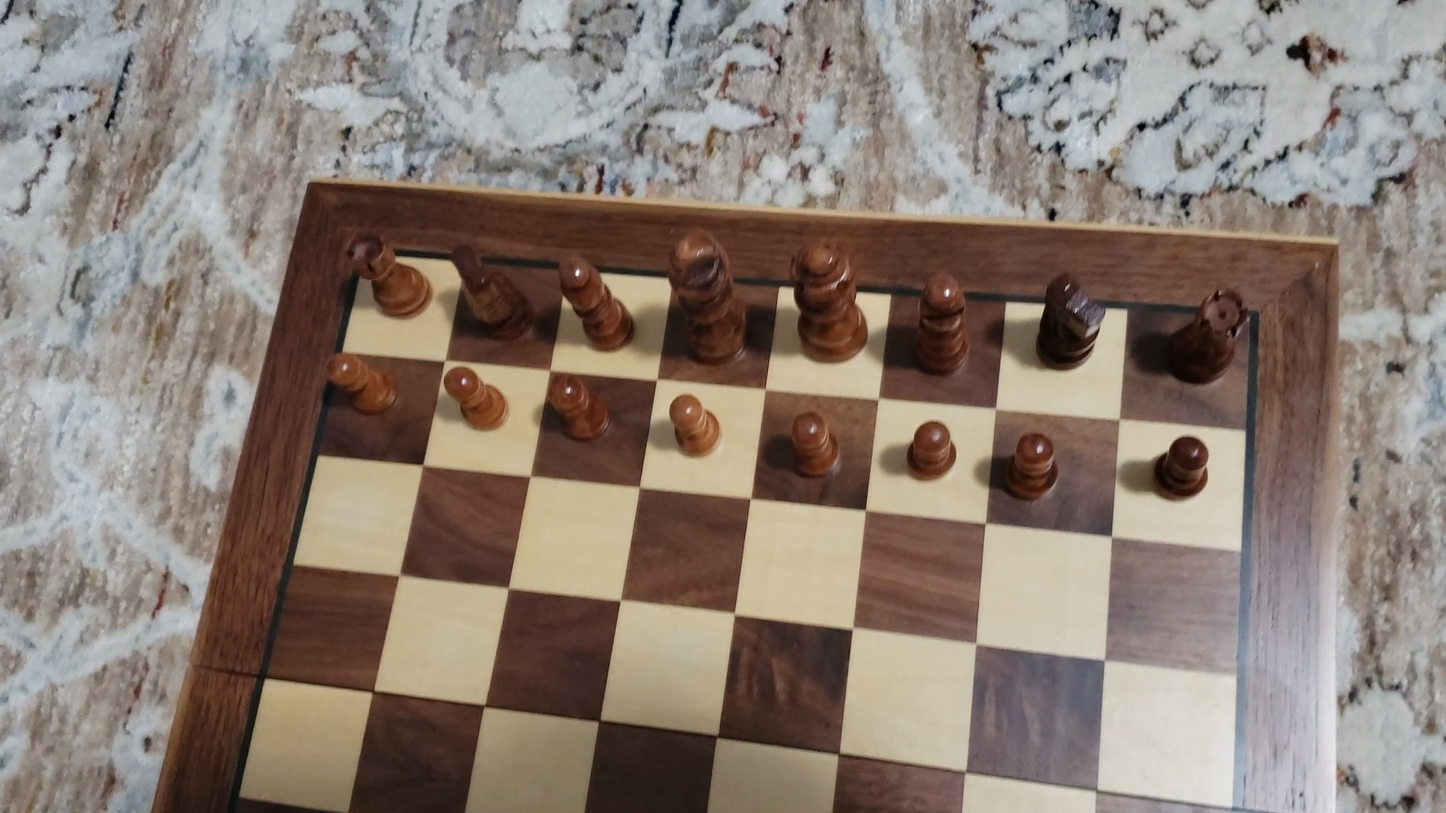black-bishop: (556, 250, 634, 353), (914, 268, 968, 377)
black-king: (665, 224, 750, 368)
black-knight: (446, 238, 534, 343), (1033, 268, 1105, 370)
black-pawn: (325, 351, 398, 417), (440, 364, 508, 432), (1151, 432, 1214, 505), (1000, 429, 1061, 504), (547, 372, 611, 443), (786, 408, 843, 482), (667, 391, 721, 460), (905, 417, 959, 484)
black-queen: (787, 233, 870, 364)
black-rook: (1164, 287, 1250, 387), (342, 229, 431, 320)
